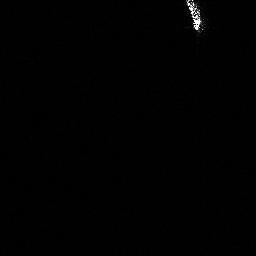ship: (183, 1, 208, 34)
